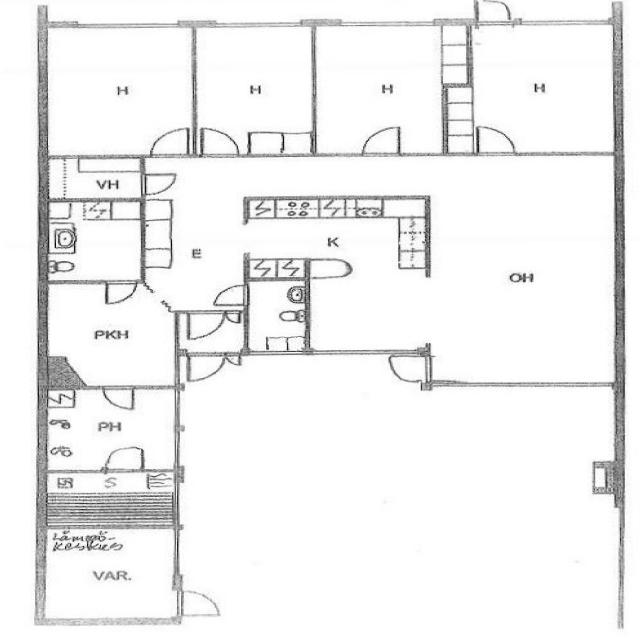door: (174, 591, 219, 616), (188, 349, 224, 379), (386, 357, 431, 381), (150, 128, 188, 156), (201, 128, 239, 156), (362, 128, 399, 156), (188, 310, 224, 338), (108, 446, 143, 474), (478, 129, 514, 156), (476, 0, 510, 25), (102, 385, 134, 410), (106, 280, 136, 305), (215, 286, 249, 305), (142, 174, 174, 194), (225, 348, 241, 366), (224, 310, 240, 324)
